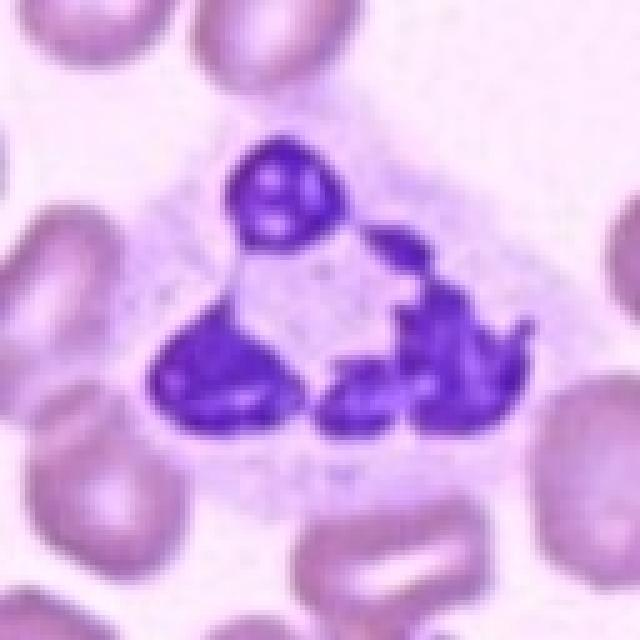neutro: (155, 84, 622, 595)
